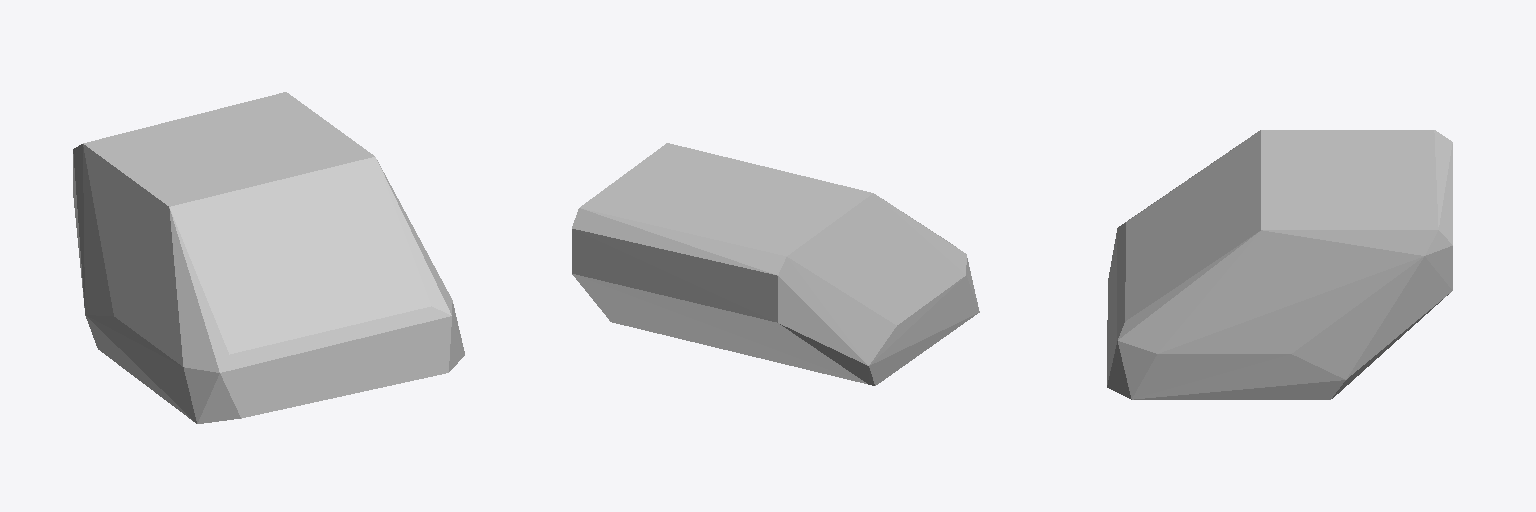
The model's file is r_distal_collision.obj.
3 renders of one model, left to right at view 1: azimuth 30°, elevation 25°; view 2: azimuth 150°, elevation 25°; view 3: azimuth 270°, elevation 25°, orthographic.
Bounding box in the file's own units: 0.0391 × 0.0219 × 0.0432.